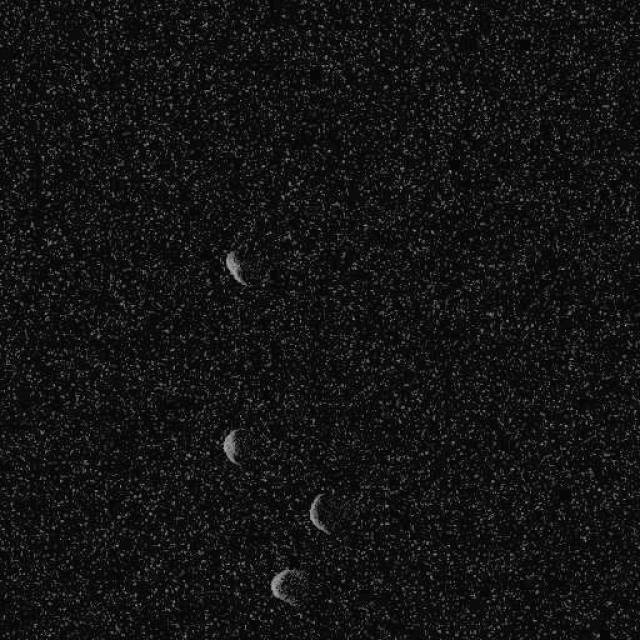D2: (268, 566, 304, 605), (307, 490, 333, 535), (224, 249, 248, 286), (220, 428, 242, 467)
